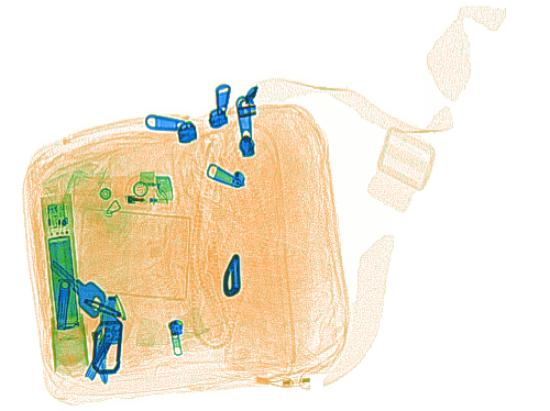battery: (44, 234, 82, 329)
lighter: (68, 173, 174, 206)
